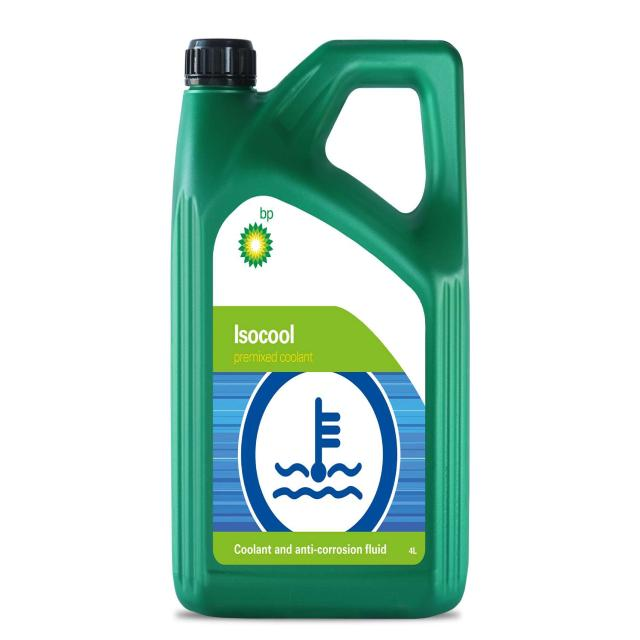coolant: (167, 28, 472, 624)
